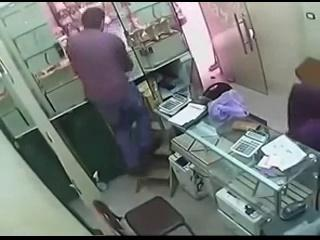Normal: (66, 6, 156, 175)
